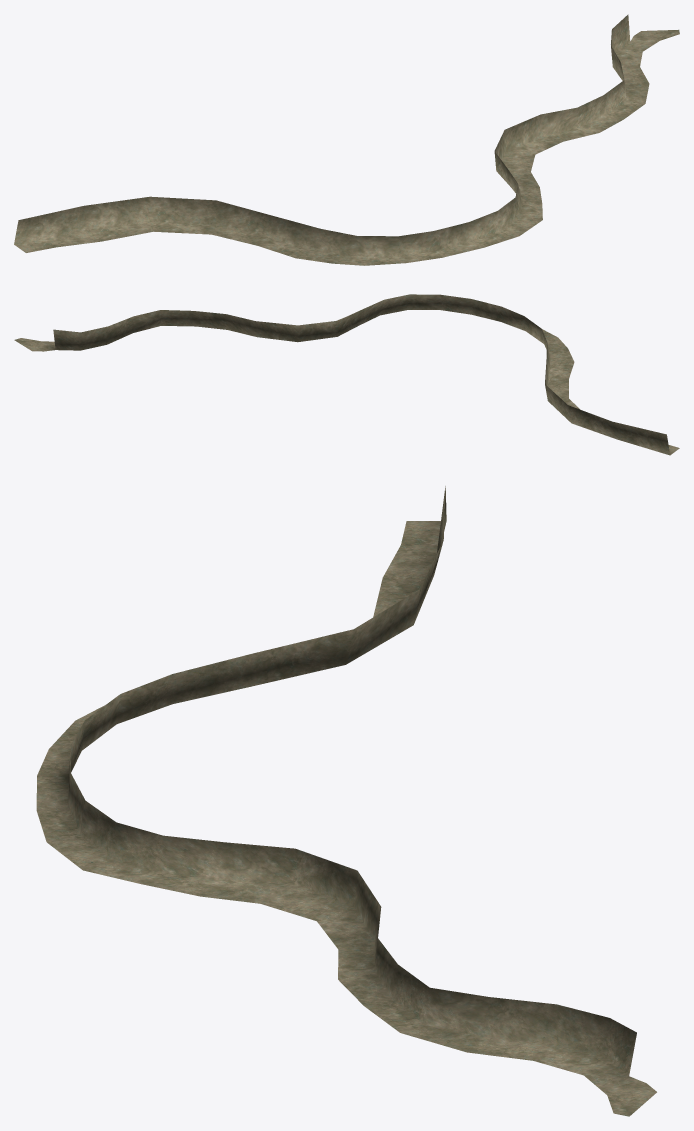
Rendered from EKH_GROTTO_PS_GR_GROTTO_CAVE_TRIM_01.fbx.
The picture shows the model from 3 angles, top to bottom: view 1: azimuth 30°, elevation 25°; view 2: azimuth 150°, elevation 25°; view 3: azimuth 270°, elevation 25°; orthographic projection. The views are drawn at different scales.
Parts seen in each view (by area): view 1: EKH_GROTTO_PS_GR_GROTTO_CAVE_TRIM_01; view 2: EKH_GROTTO_PS_GR_GROTTO_CAVE_TRIM_01; view 3: EKH_GROTTO_PS_GR_GROTTO_CAVE_TRIM_01.
Part boxes in pixels (x1,y1,x2,y2): EKH_GROTTO_PS_GR_GROTTO_CAVE_TRIM_01: [14, 14, 679, 265]; EKH_GROTTO_PS_GR_GROTTO_CAVE_TRIM_01: [14, 294, 679, 455]; EKH_GROTTO_PS_GR_GROTTO_CAVE_TRIM_01: [36, 486, 656, 1116].
Bounding box in the file's own units: 251227 × 8623 × 110623.
1 material, 1 textured.
